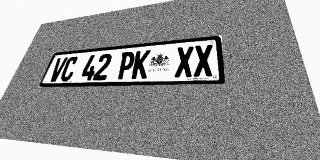2: (92, 53, 113, 80)
4: (79, 54, 100, 81)
C: (59, 56, 79, 81)
K: (131, 50, 151, 79)
P: (116, 51, 136, 80)
V: (48, 57, 68, 82)
X: (194, 44, 214, 77), (174, 46, 194, 78)
